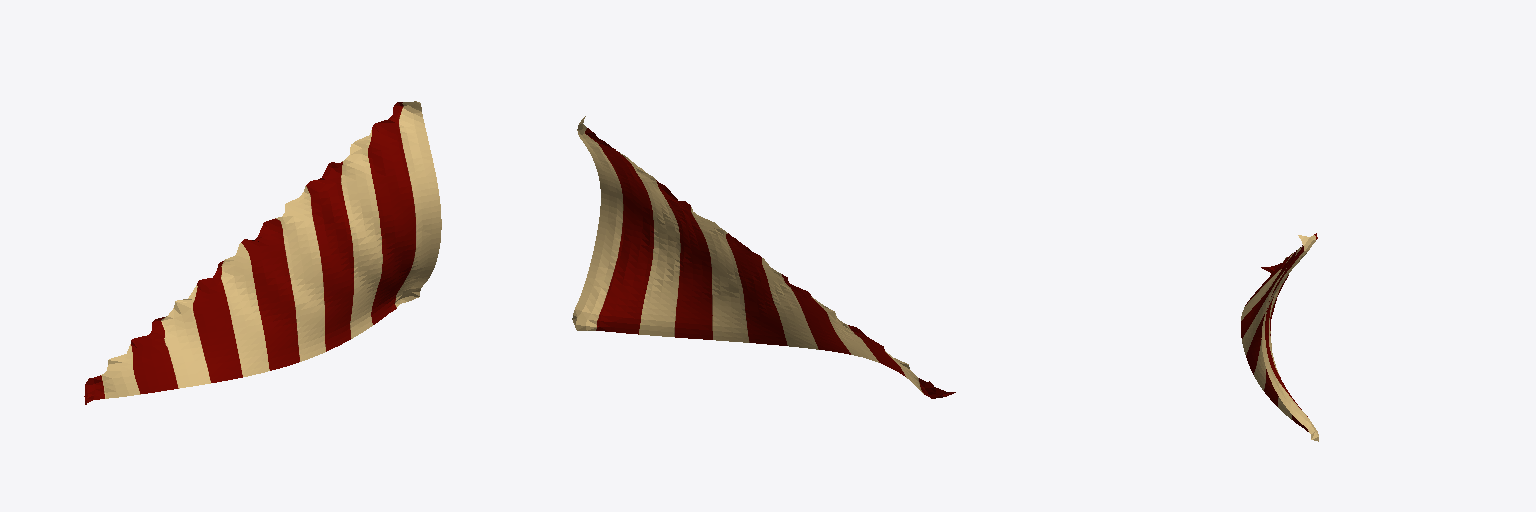
3 views of the same model, side by side, from view 1: azimuth 30°, elevation 25°; view 2: azimuth 150°, elevation 25°; view 3: azimuth 270°, elevation 25° (orthographic).
Visible parts, largest first — view 1: bandera_bicolor_polySurface1025polySurface1391polySurface1391; view 2: bandera_bicolor_polySurface1025polySurface1391polySurface1391; view 3: bandera_bicolor_polySurface1025polySurface1391polySurface1391.
Part boxes in pixels (bbox=[...]): bandera_bicolor_polySurface1025polySurface1391polySurface1391: bbox=[84, 101, 441, 404]; bandera_bicolor_polySurface1025polySurface1391polySurface1391: bbox=[572, 116, 955, 398]; bandera_bicolor_polySurface1025polySurface1391polySurface1391: bbox=[1241, 233, 1318, 441].
Bounding box in the file's own units: 13.09 × 7.33 × 2.49.
1 materials, 1 textured.